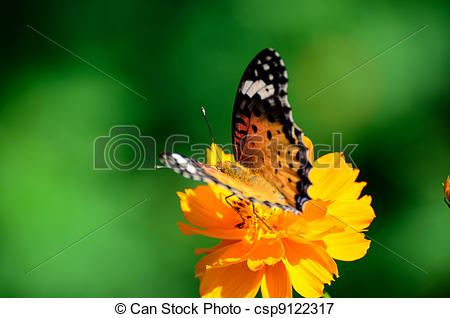Argyreus hyperbius: (187, 43, 317, 232)
butterfly: (189, 45, 319, 234)
